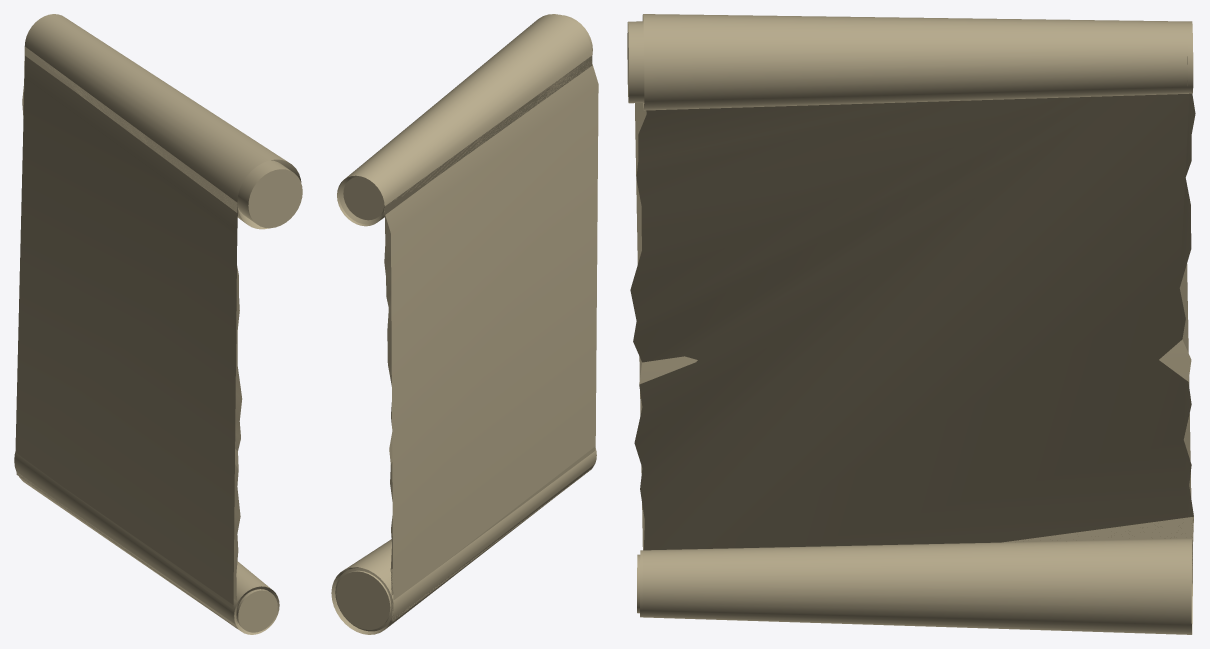
File: pergamino_v2.fbx
3 views of the same model, side by side, from view 1: azimuth 30°, elevation 25°; view 2: azimuth 150°, elevation 25°; view 3: azimuth 270°, elevation 25° (orthographic). The views are drawn at different scales.
Visible parts, largest first — view 1: Cilindro.001; view 2: Cilindro.001; view 3: Cilindro.001.
Part boxes in pixels (x1,y1,x2,y2): Cilindro.001: (14,14,302,634); Cilindro.001: (331,14,598,634); Cilindro.001: (627,14,1195,634).
Bounding box in the file's own units: 84.88 × 524 × 436.
